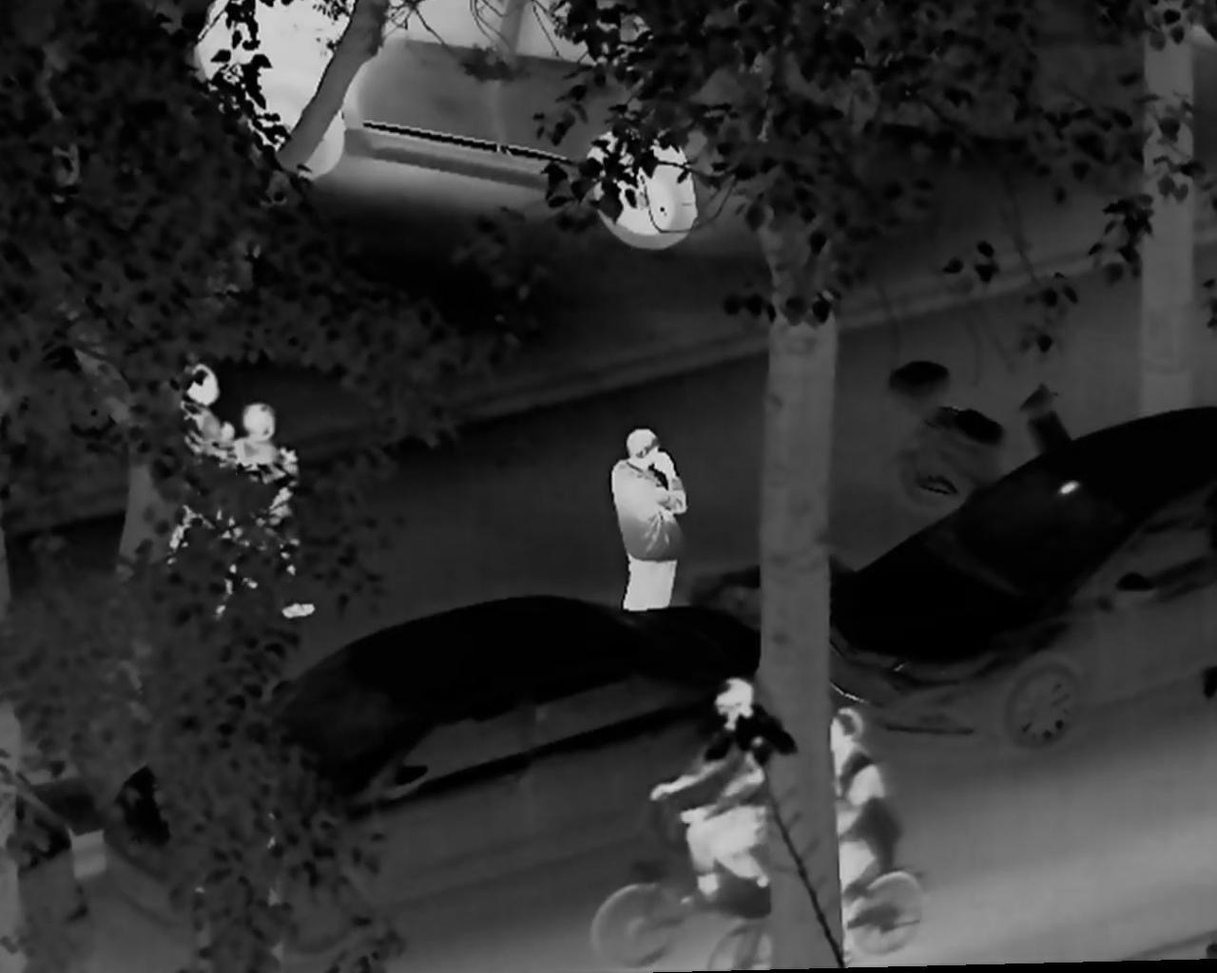person: (647, 671, 774, 919), (205, 398, 318, 629), (818, 697, 894, 970), (597, 421, 689, 613), (164, 354, 241, 571)
